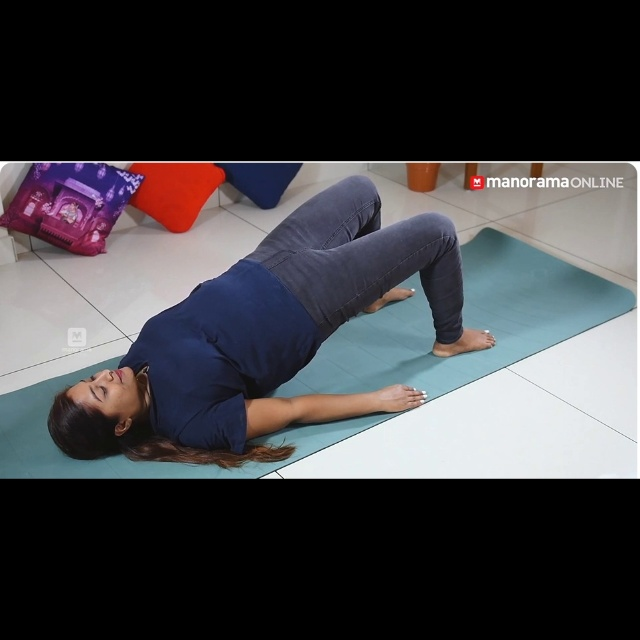Bridge_Pose: (33, 172, 498, 477)
